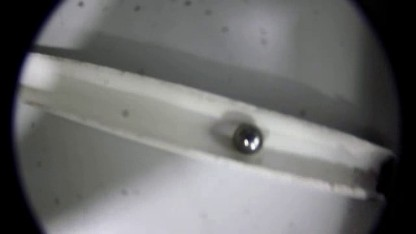gangzhu: (232, 123, 264, 155)
